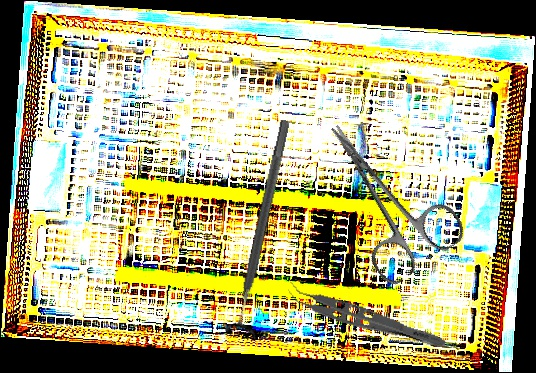Fixation Ring: (222, 116, 303, 341)
Iris Scissors: (297, 97, 470, 290)
Tissue Forceps: (283, 279, 451, 352)
